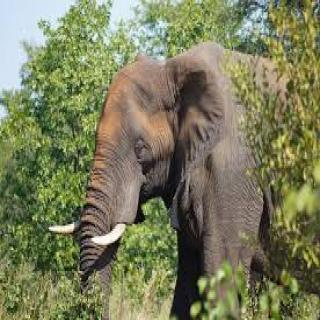Elephant: (44, 40, 312, 320)
